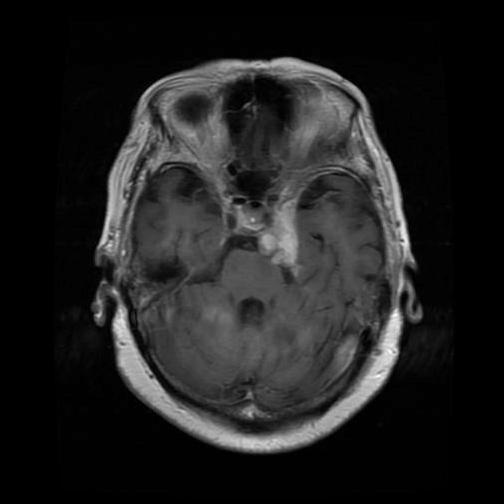Tumour-Meningioma: (255, 200, 327, 271)
